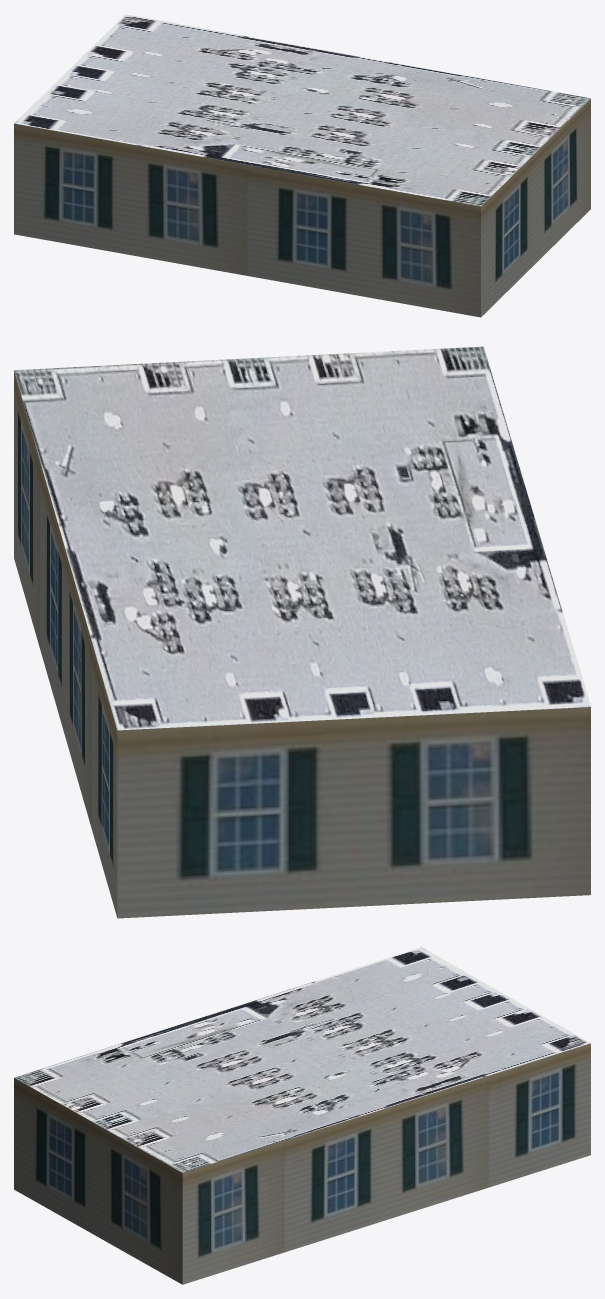
The model's file is ResTex__2392.fbx.
3 renders of one model, top to bottom at view 1: azimuth 30°, elevation 25°; view 2: azimuth 150°, elevation 25°; view 3: azimuth 270°, elevation 25°, orthographic. The views are drawn at different scales.
Parts seen in each view (by area): view 1: CityEngineMaterial_7_m, CityEngineMaterial_4_m; view 2: CityEngineMaterial_4_m, CityEngineMaterial_7_m; view 3: CityEngineMaterial_7_m, CityEngineMaterial_4_m.
Part boxes in pixels (x1=…): CityEngineMaterial_7_m: x1=14, y1=98, x2=590, y2=317; CityEngineMaterial_4_m: x1=14, y1=14, x2=590, y2=206; CityEngineMaterial_4_m: x1=14, y1=346, x2=590, y2=730; CityEngineMaterial_7_m: x1=14, y1=371, x2=590, y2=918; CityEngineMaterial_7_m: x1=14, y1=1043, x2=590, y2=1284; CityEngineMaterial_4_m: x1=14, y1=947, x2=590, y2=1172.
Bounding box in the file's own units: 12.99 × 3 × 14.02.
2 materials, 2 textured.
